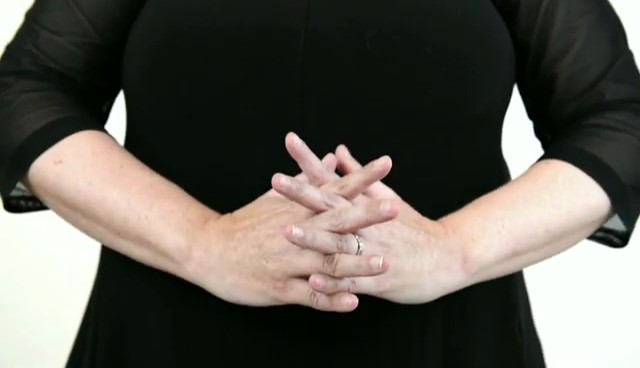W: (191, 114, 456, 322)
